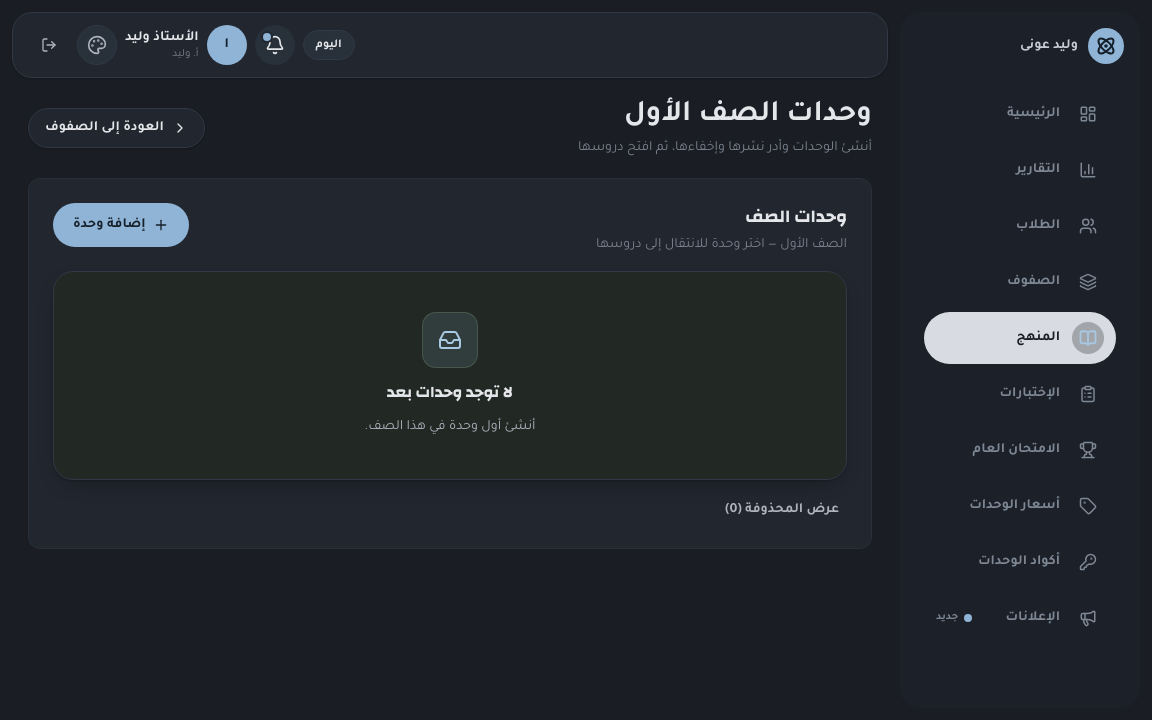
CurriculumPage › shows empty states for a grade without units and a unit without lessons
Expected: the text "لا توجد وحدات بعد" is shown, top-left (387, 380), bottom-right (513, 404)
Click the button "إضافة وحدة" at (121, 225), box top-left (53, 203), bottom-right (190, 247)
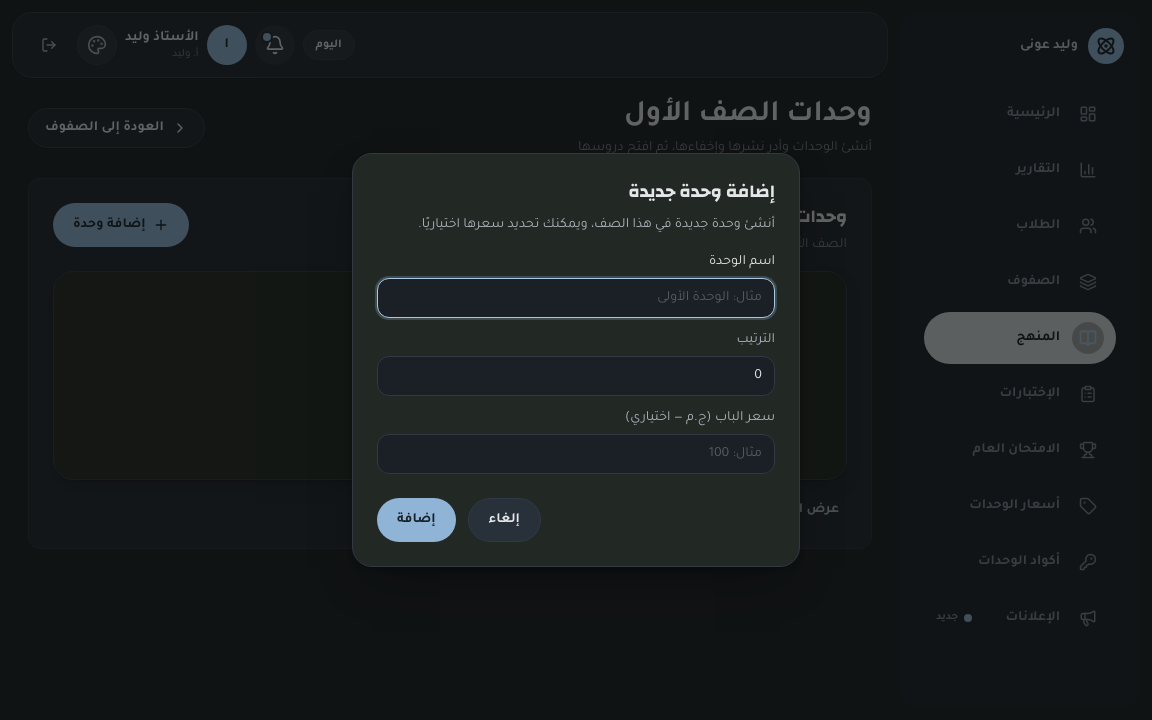
Type "الوحدة الأولى" into the field labelled "اسم الوحدة" at (576, 298), box top-left (377, 278), bottom-right (775, 318)
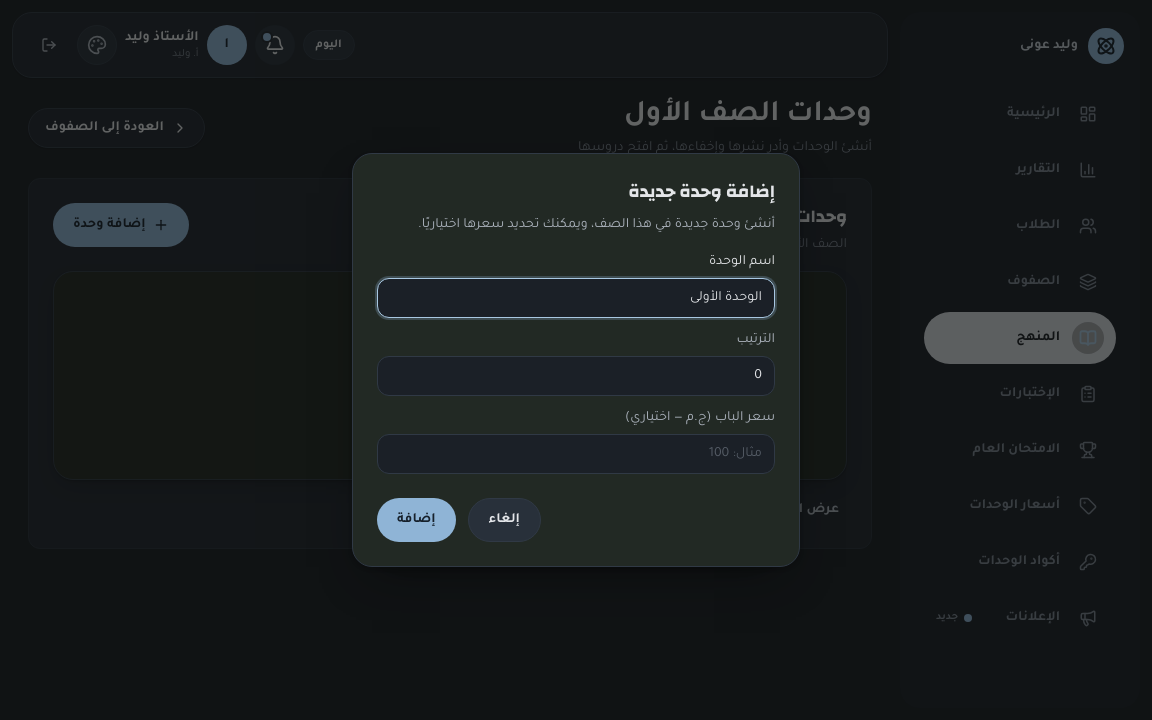
Click the button "إضافة" at (416, 520), box top-left (377, 498), bottom-right (456, 542)
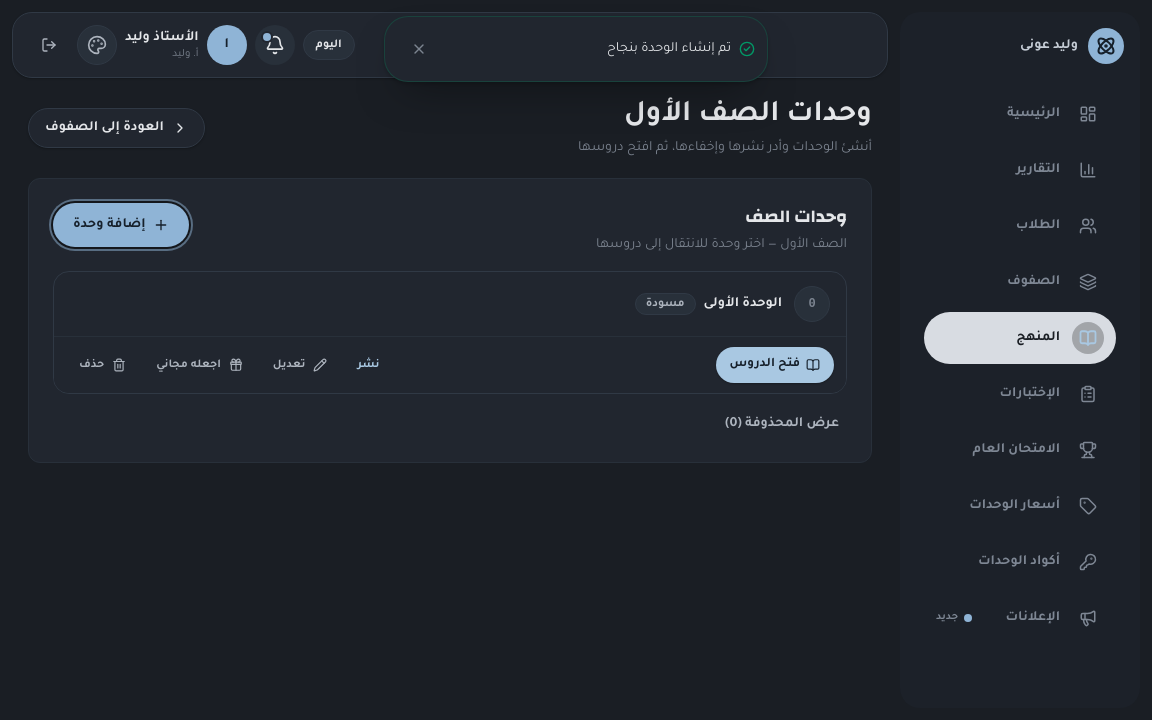
Now the text "الوحدة الأولى" is shown, box top-left (704, 294), bottom-right (782, 314)
Click the link "فتح الدروس" at (775, 365), box top-left (716, 347), bottom-right (834, 383)
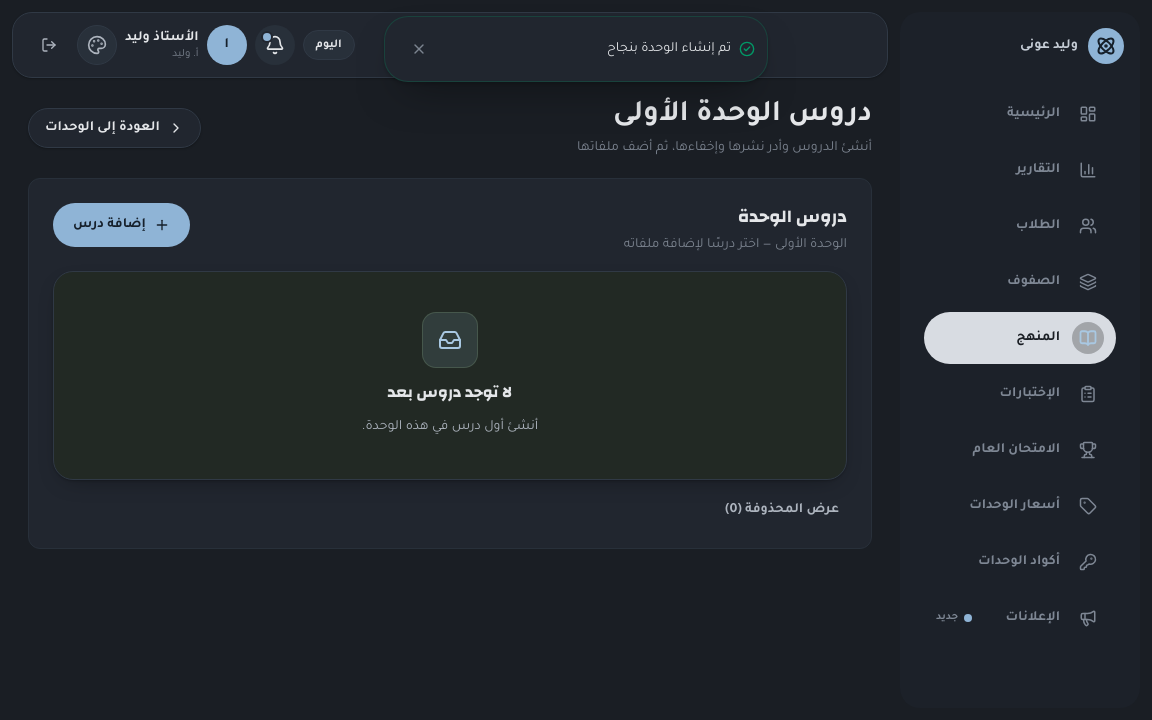
Now the text "لا توجد دروس بعد" is shown, box top-left (388, 380), bottom-right (512, 404)
